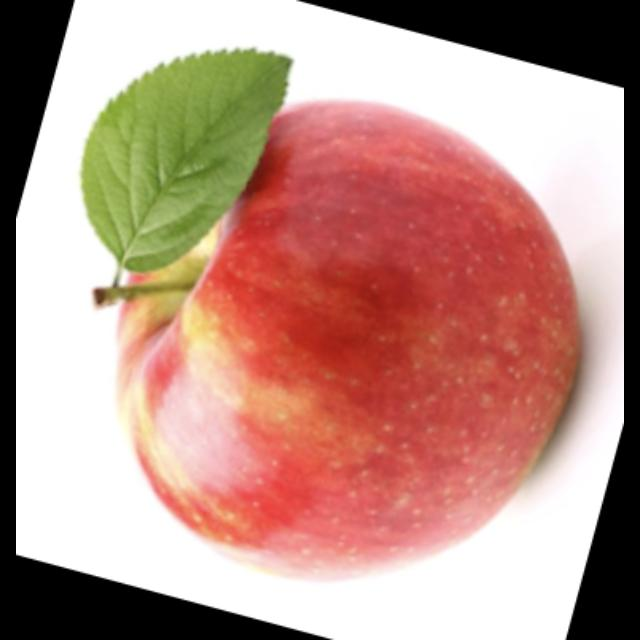Apel Segar: (100, 102, 592, 581)
